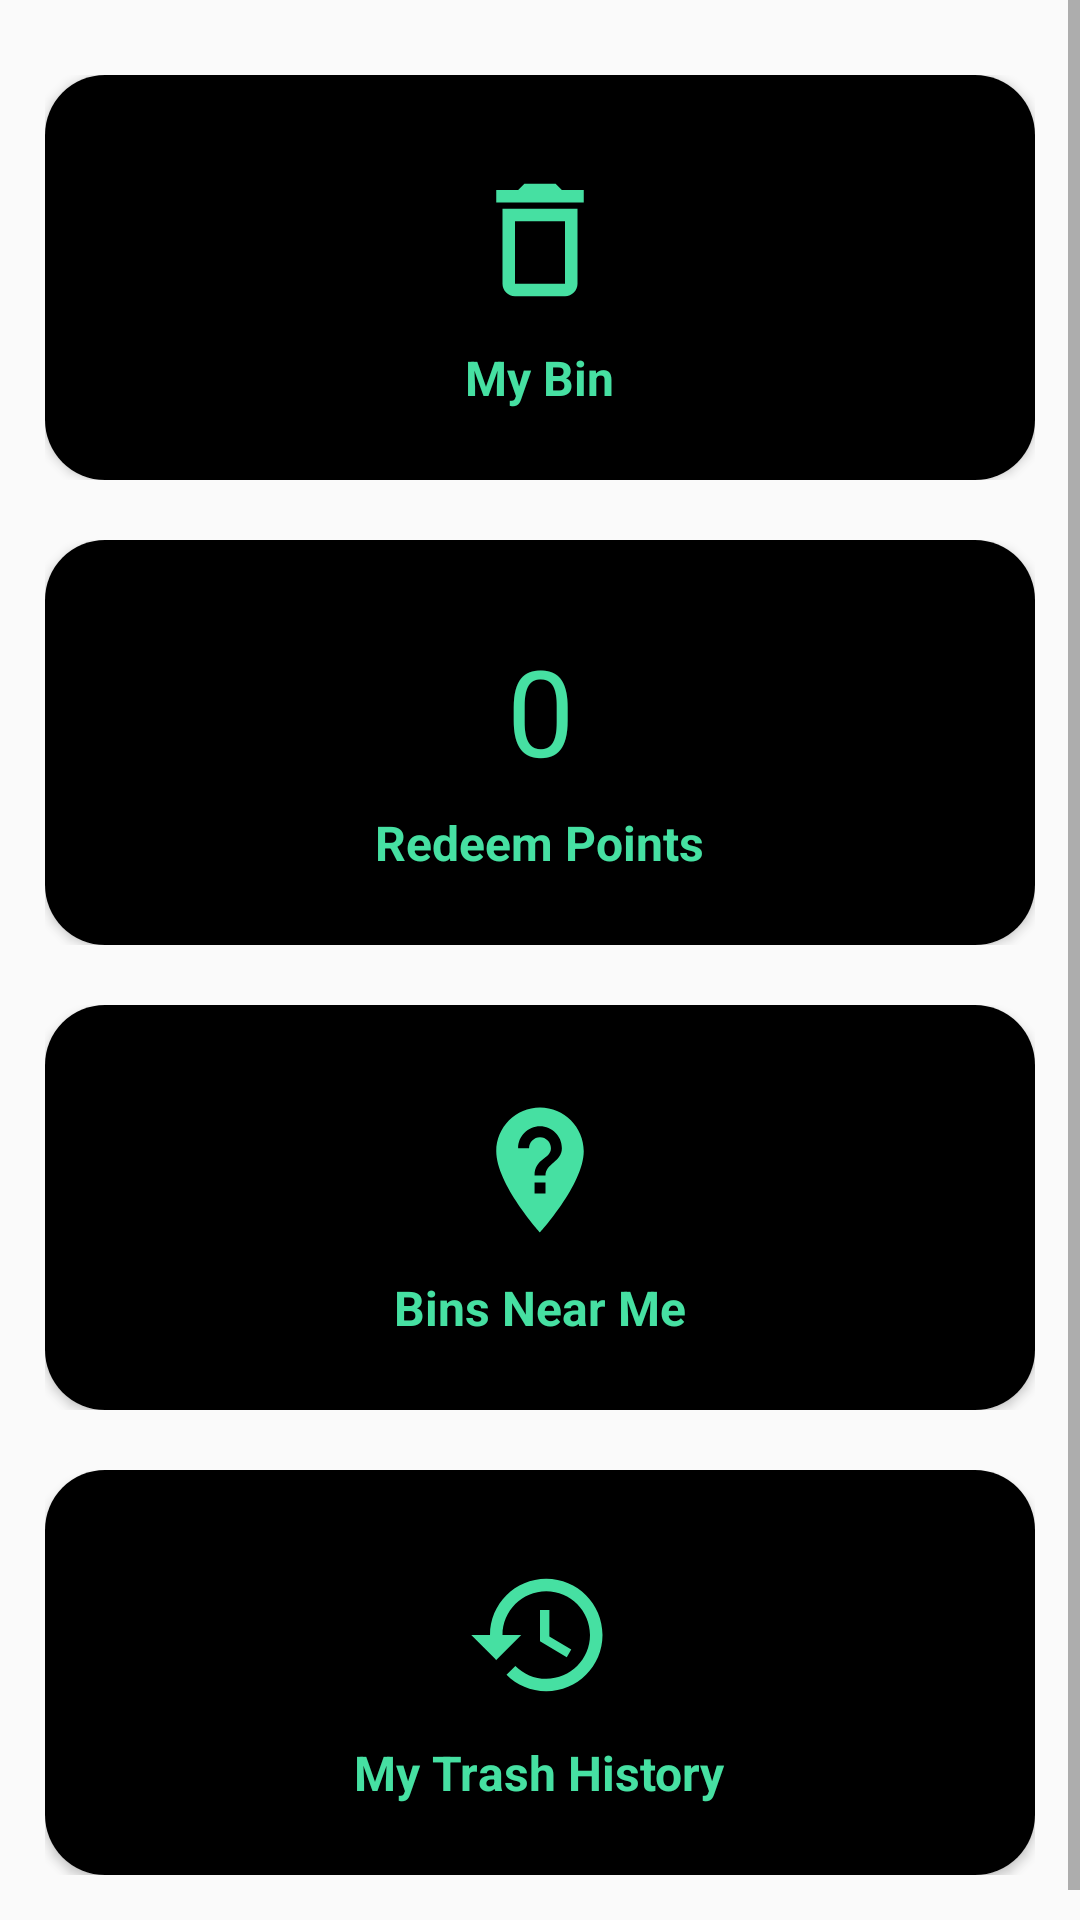

Icons on this 1080 × 1920 Android screen, each with its box as (x1, y1, x2, y2):
histoty: (471, 1578, 603, 1692)
